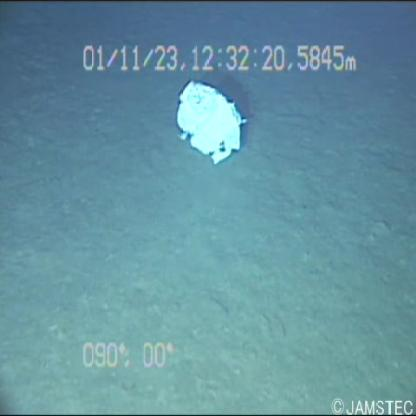Rác: (172, 76, 252, 171)
